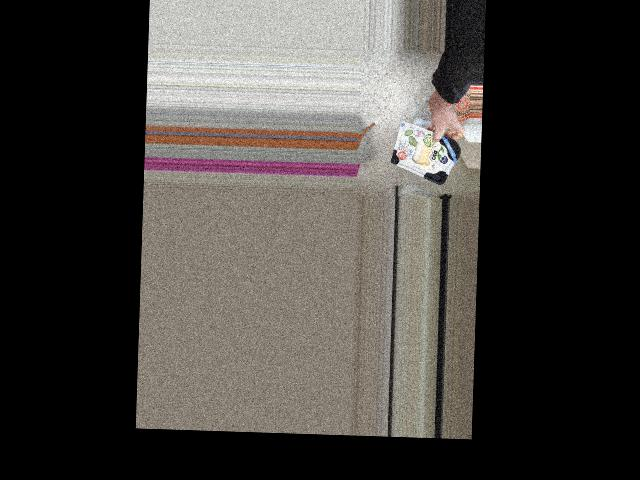cheese: (390, 131, 463, 180)
